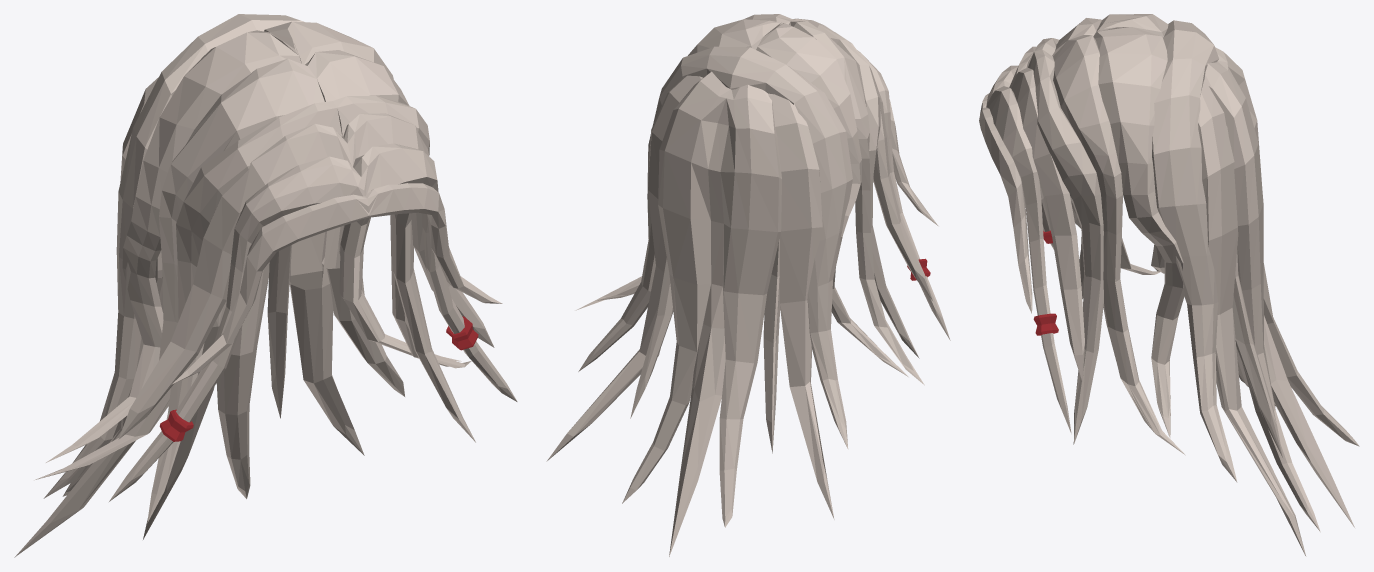
Rendered from greekZeusHairSimpleFemale.glb.
The picture shows the model from 3 angles, left to right: view 1: azimuth 30°, elevation 25°; view 2: azimuth 150°, elevation 25°; view 3: azimuth 270°, elevation 25°; orthographic projection. The views are drawn at different scales.
Visible parts, largest first — view 1: greekZeusHairSimple; view 2: greekZeusHairSimple; view 3: greekZeusHairSimple.
Part boxes in pixels (box(x1,y1,x2,y2)): greekZeusHairSimple: box(14, 14, 517, 557); greekZeusHairSimple: box(546, 14, 950, 556); greekZeusHairSimple: box(979, 14, 1359, 556).
Size of the model in its own units: 0.3969 by 0.5086 by 0.347.
